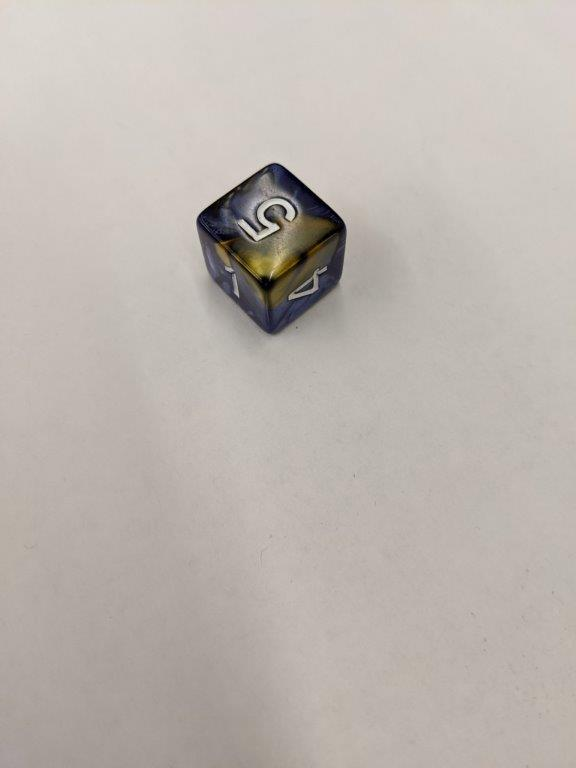d6-5: (197, 160, 348, 336)
